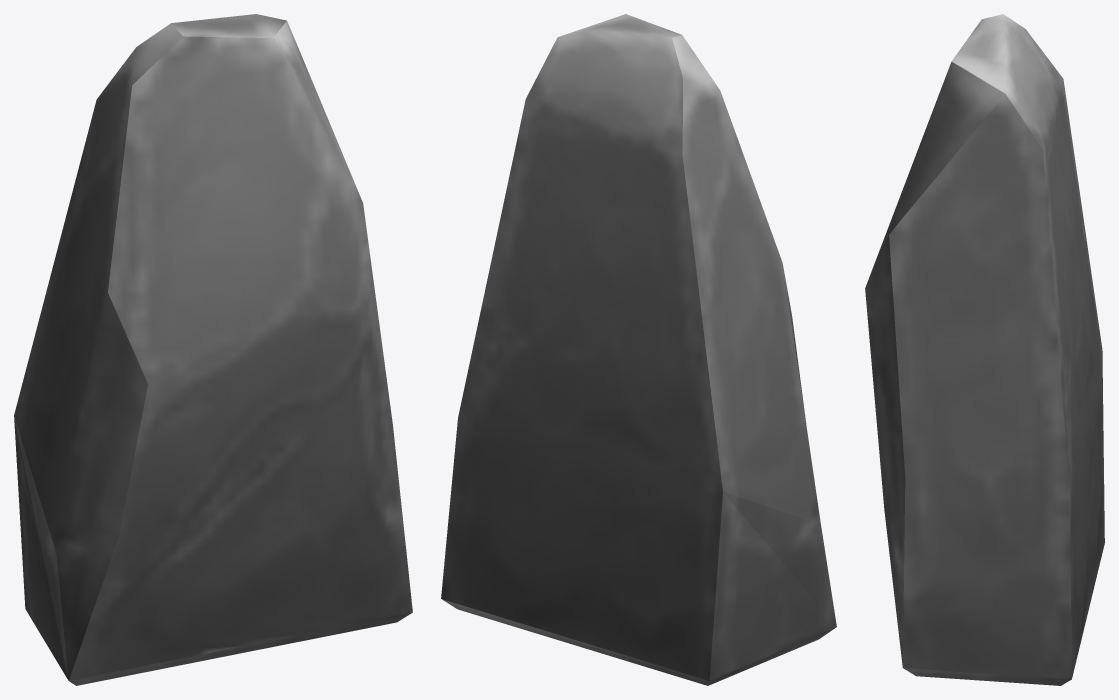
File: SM_Rocks_08.obj
3 renders of one model, left to right at view 1: azimuth 30°, elevation 25°; view 2: azimuth 150°, elevation 25°; view 3: azimuth 270°, elevation 25°, orthographic. The views are drawn at different scales.
Visible parts, largest first — view 1: SM_Rocks_08; view 2: SM_Rocks_08; view 3: SM_Rocks_08.
Boxes of the visible parts, x1,y1,x2,y2 form: SM_Rocks_08: (14,14,412,685); SM_Rocks_08: (441,14,836,685); SM_Rocks_08: (865,14,1104,685).
Size of the model in its own units: 0.5629 by 0.9758 by 0.3634.
Materials: 1 (1 with a texture image).
